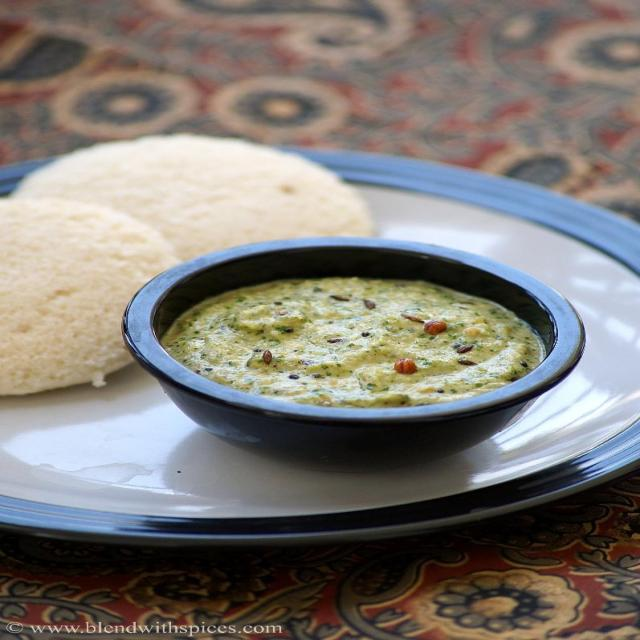idly: (10, 134, 373, 260), (0, 198, 178, 395)
puthina chutney: (111, 234, 589, 422)
